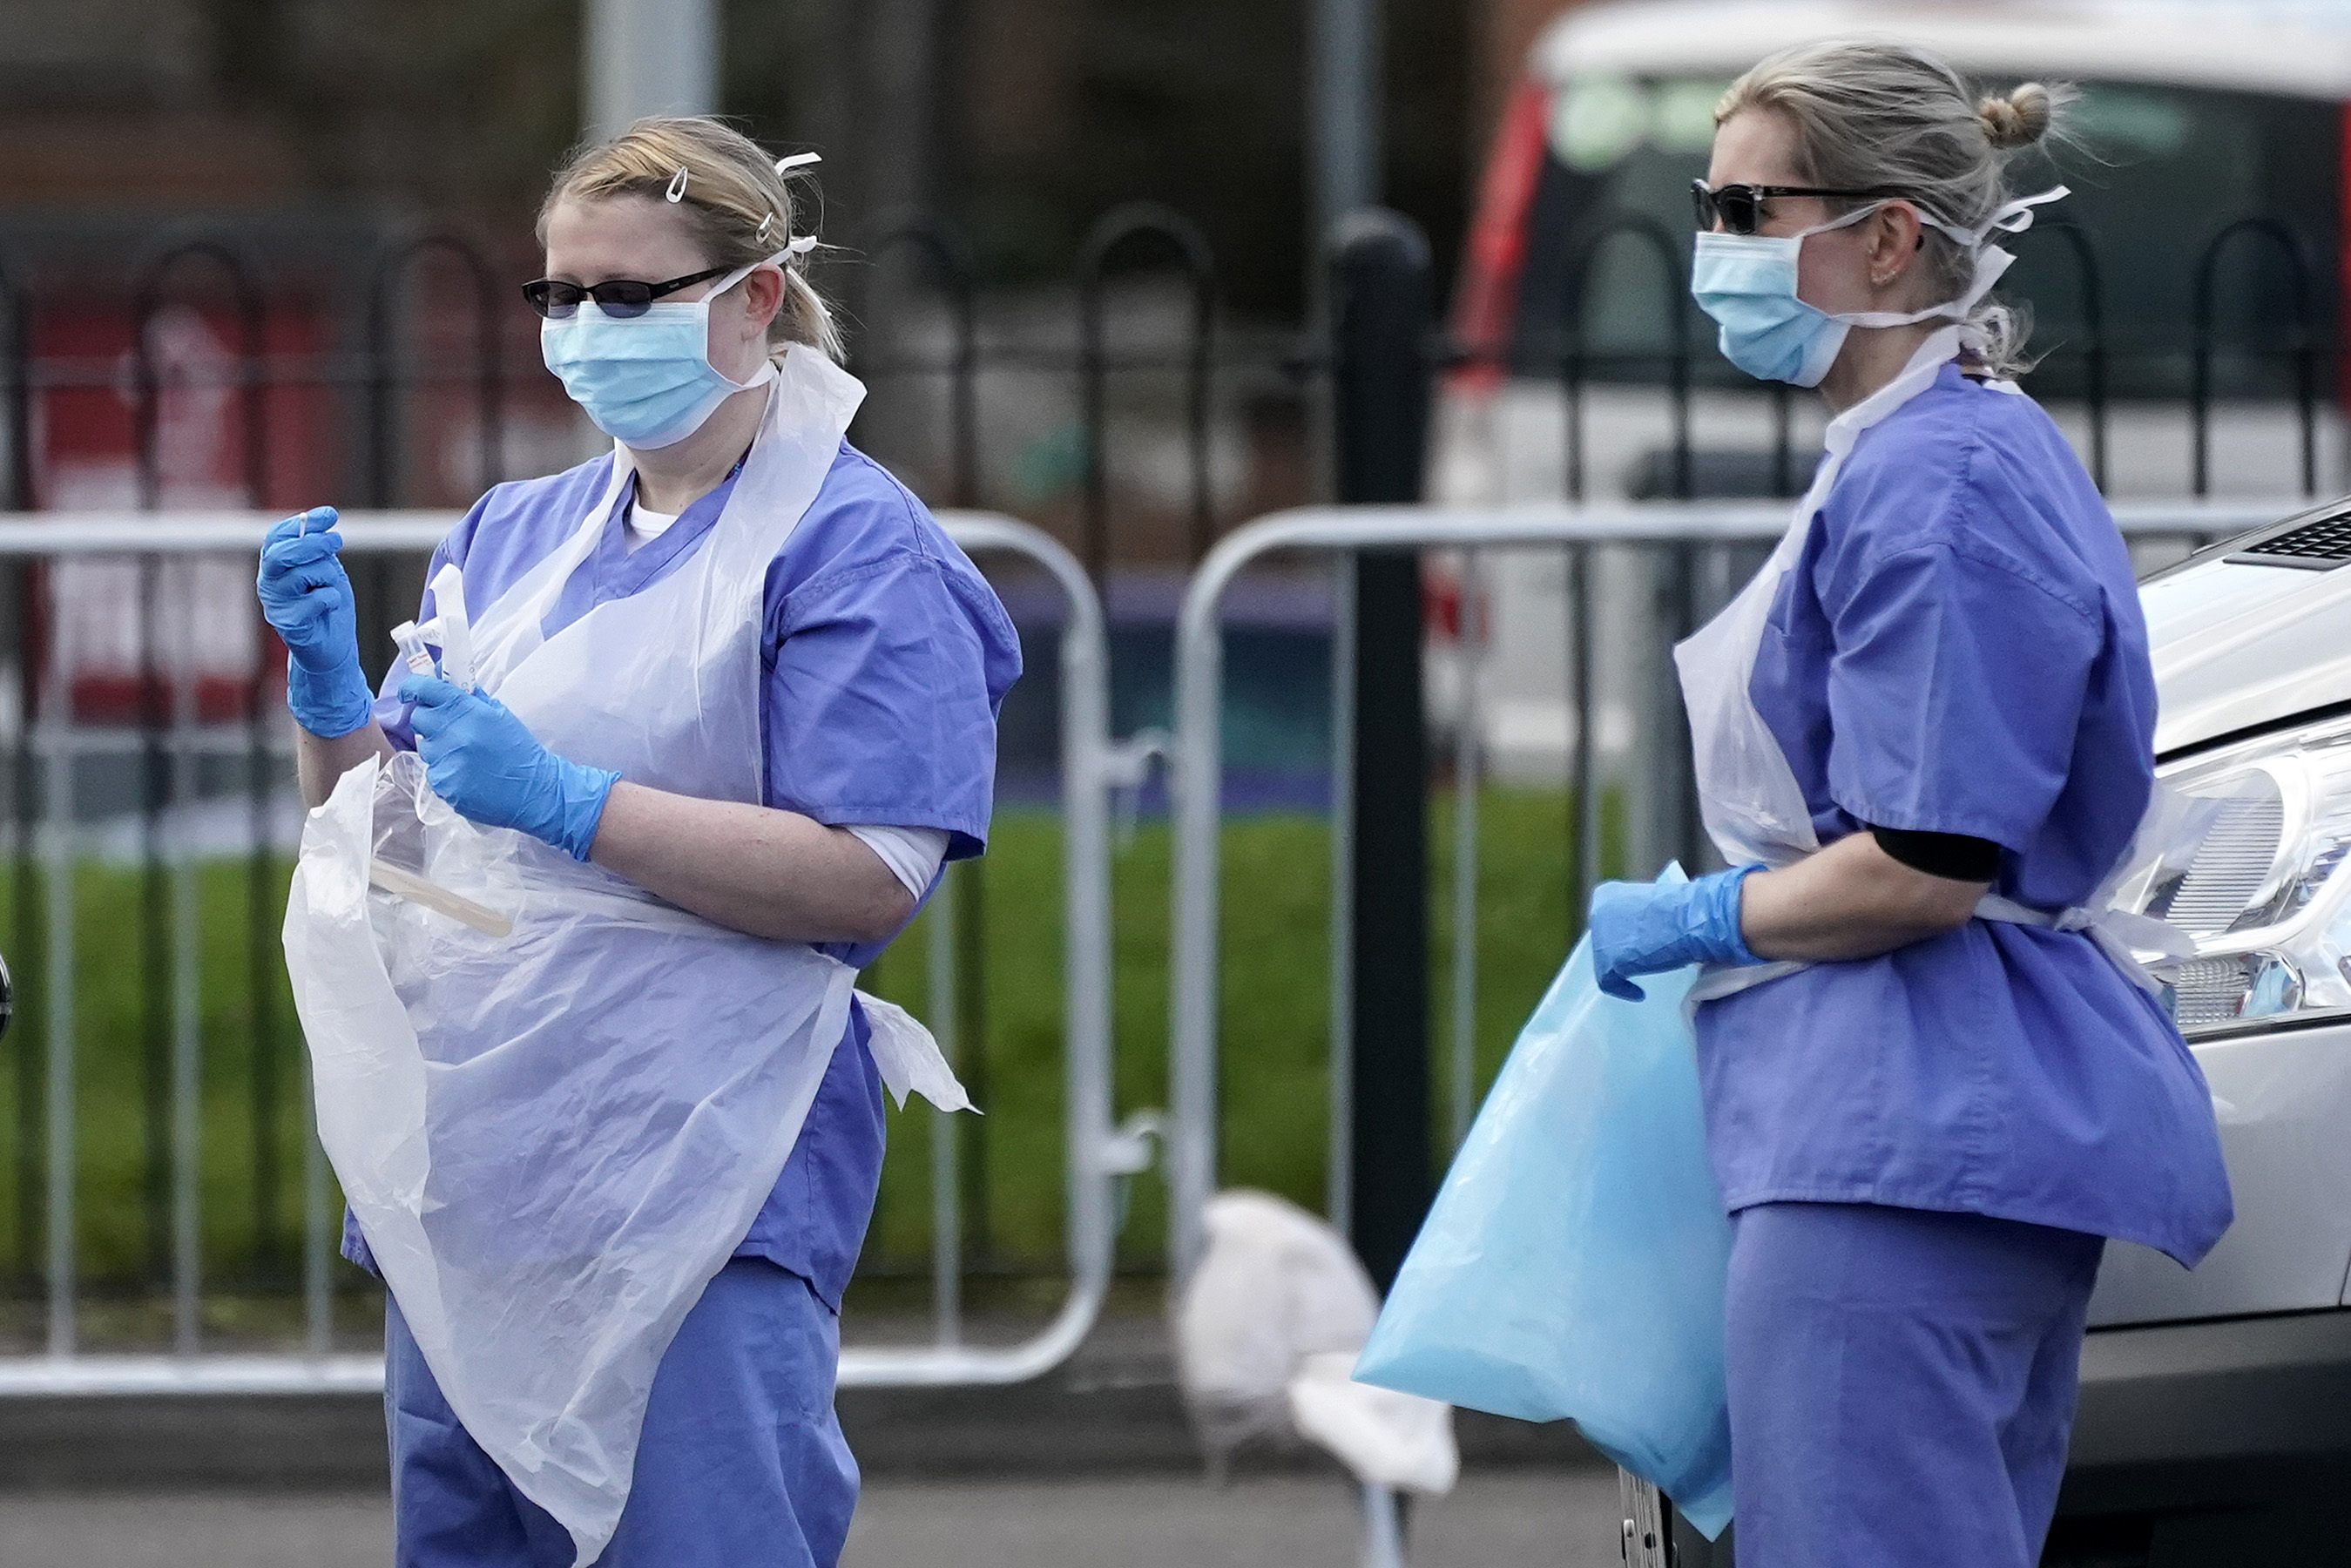Gloves: (392, 666, 610, 877), (1569, 850, 1780, 1026), (250, 502, 392, 738)
with_mask: (1686, 165, 1880, 398), (530, 266, 738, 458)
